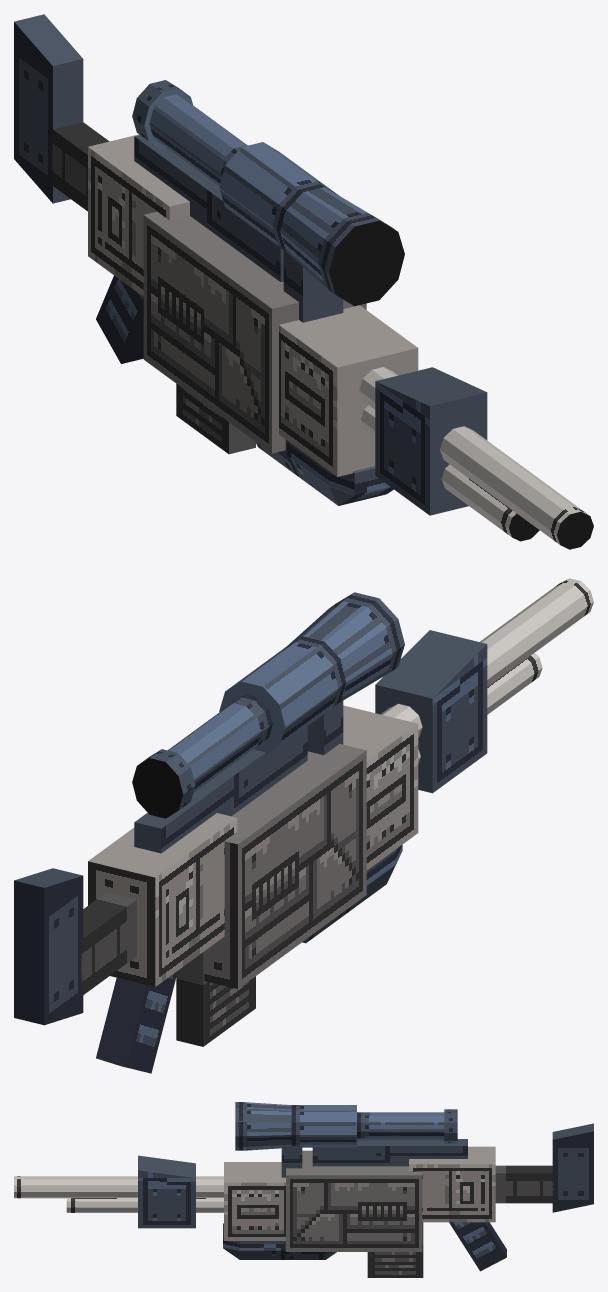
Rendered from SniperRifle.gltf.
The picture shows the model from 3 angles, top to bottom: view 1: azimuth 30°, elevation 25°; view 2: azimuth 150°, elevation 25°; view 3: azimuth 270°, elevation 25°; orthographic projection. The views are drawn at different scales.
Visible parts, largest first — view 1: Body (×6), Scope, Barrel (×2), Butt, Grip, Handle, Stock, Magazine; view 2: Body (×6), Scope, Butt, Barrel (×2), Handle, Magazine, Stock, Grip; view 3: Body (×6), Scope, Barrel (×2), Butt, Stock, Handle, Magazine, Grip.
Part boxes in pixels (bbox=[...]): Body (×6): bbox=[88, 134, 487, 515]; Scope: bbox=[132, 80, 404, 306]; Barrel (×2): bbox=[359, 367, 593, 549]; Butt: bbox=[14, 14, 83, 203]; Grip: bbox=[255, 439, 393, 505]; Handle: bbox=[96, 275, 143, 363]; Stock: bbox=[51, 122, 109, 211]; Magazine: bbox=[176, 384, 255, 454]; Body (×6): bbox=[88, 630, 487, 988]; Scope: bbox=[132, 592, 404, 818]; Butt: bbox=[14, 868, 83, 1025]; Barrel (×2): bbox=[381, 578, 593, 763]; Handle: bbox=[96, 971, 177, 1073]; Magazine: bbox=[176, 951, 255, 1046]; Stock: bbox=[81, 892, 136, 995]; Grip: bbox=[302, 845, 402, 943]; Body (×6): bbox=[138, 1139, 495, 1251]; Scope: bbox=[235, 1102, 457, 1150]; Barrel (×2): bbox=[14, 1176, 223, 1212]; Butt: bbox=[552, 1123, 593, 1212]; Stock: bbox=[495, 1165, 554, 1203]; Handle: bbox=[449, 1222, 506, 1271]; Magazine: bbox=[367, 1222, 423, 1277]; Grip: bbox=[223, 1223, 336, 1259].
Size of the model in its own units: 0.175 by 0.5643 by 1.75.
1 material, 1 textured.
